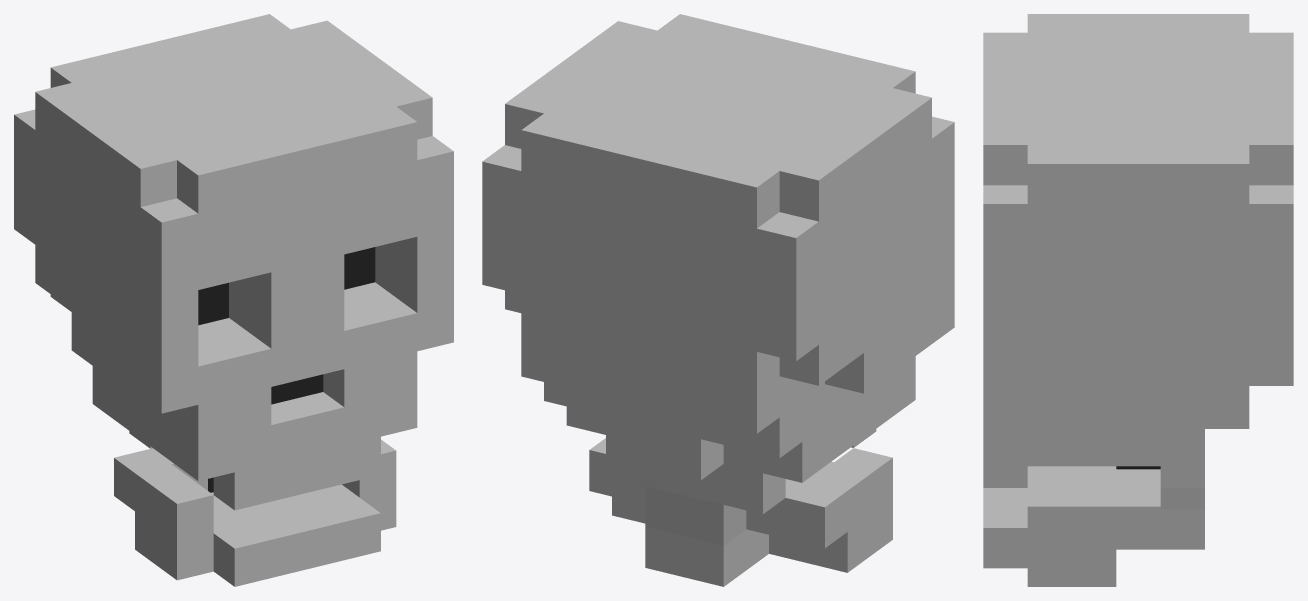
The model's file is EnemySkeleton1-0.obj.
The picture shows the model from 3 angles, left to right: view 1: azimuth 30°, elevation 25°; view 2: azimuth 150°, elevation 25°; view 3: azimuth 270°, elevation 25°; orthographic projection. The views are drawn at different scales.
Size of the model in its own units: 0.8 by 1.1 by 0.7.
1 material, 1 textured.
